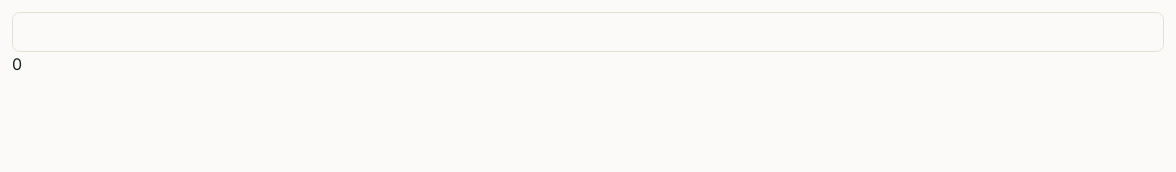
NumberField › caps weights at 3 decimals and amounts at 2
The width and height of the screenshot is (1176, 172).
Later steps or results of the test are not shown.
Step 1. Type "1.23456" into the field named "field" → (588, 32), box [12,12,1164,52]
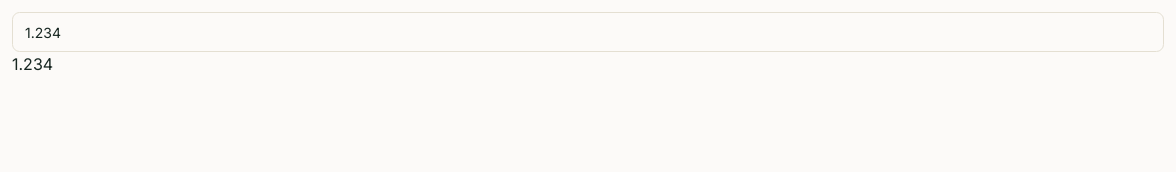
Result: the field named "field" holds "1.234" at [12,12,1164,52]
